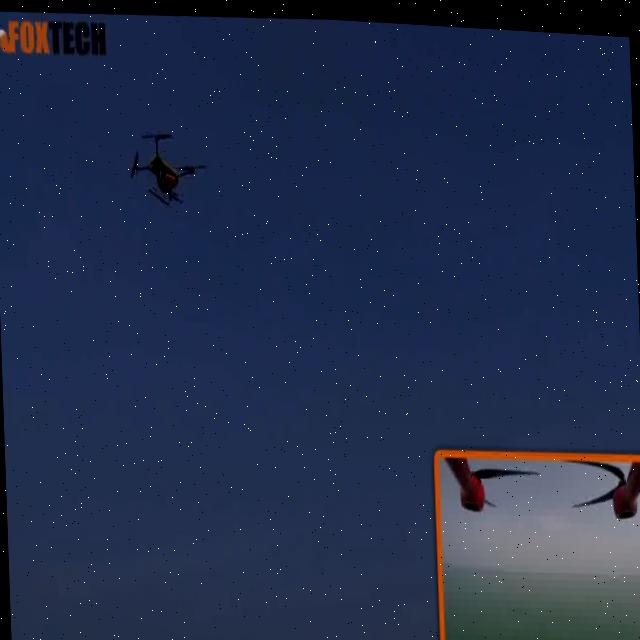drone: (118, 110, 212, 217)
